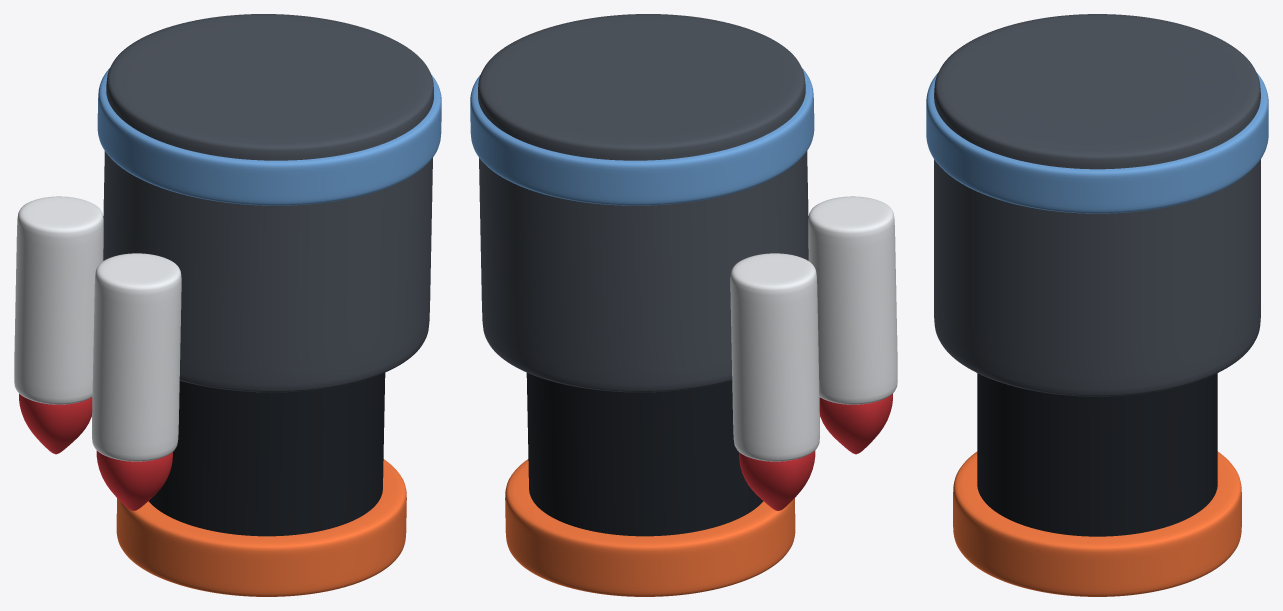
File: cannon_L.glb
3 renders of one model, left to right at view 1: azimuth 30°, elevation 25°; view 2: azimuth 150°, elevation 25°; view 3: azimuth 270°, elevation 25°, orthographic.
Visible parts, largest first — view 1: ACC_cannon_L_sleeve, ACC_cannon_L_barrel, ACC_cannon_L_ring, ACC_cannon_L_pod1, ACC_cannon_L_pod-1, ACC_cannon_L_band, ACC_cannon_L_tip1, ACC_cannon_L_tip-1; view 2: ACC_cannon_L_sleeve, ACC_cannon_L_barrel, ACC_cannon_L_ring, ACC_cannon_L_pod-1, ACC_cannon_L_pod1, ACC_cannon_L_band, ACC_cannon_L_tip-1, ACC_cannon_L_tip1; view 3: ACC_cannon_L_sleeve, ACC_cannon_L_barrel, ACC_cannon_L_ring, ACC_cannon_L_band.
Boxes of the visible parts, x1,y1,x2,y2 form: ACC_cannon_L_sleeve: (103,14,433,392); ACC_cannon_L_barrel: (148,373,385,536); ACC_cannon_L_ring: (116,459,406,596); ACC_cannon_L_pod1: (92,253,181,461); ACC_cannon_L_pod-1: (14,196,103,404); ACC_cannon_L_band: (97,68,441,205); ACC_cannon_L_tip1: (96,450,172,510); ACC_cannon_L_tip-1: (19,394,92,454); ACC_cannon_L_sleeve: (478,14,808,392); ACC_cannon_L_barrel: (526,373,763,536); ACC_cannon_L_ring: (505,459,795,596); ACC_cannon_L_pod-1: (730,253,819,461); ACC_cannon_L_pod1: (808,196,897,404); ACC_cannon_L_band: (470,68,814,205); ACC_cannon_L_tip-1: (739,450,815,510); ACC_cannon_L_tip1: (819,394,892,454); ACC_cannon_L_sleeve: (934,14,1260,396); ACC_cannon_L_barrel: (977,373,1217,536); ACC_cannon_L_ring: (953,451,1241,596); ACC_cannon_L_band: (926,72,1268,213).
Size of the model in its own units: 0.4277 by 0.5492 by 0.3537.
